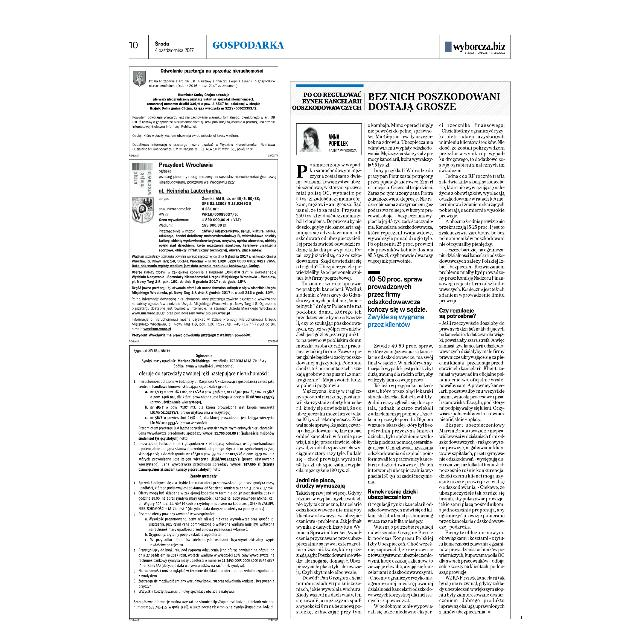article: (289, 80, 511, 620)
